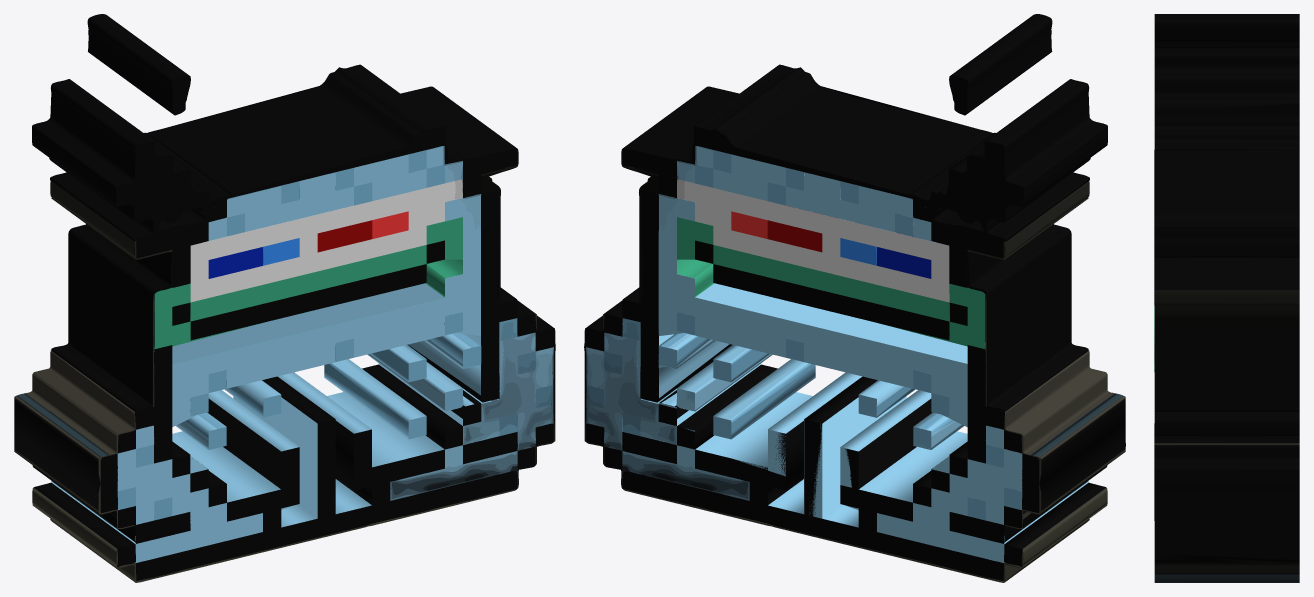
The model's file is Toadz_1662.glb.
The picture shows the model from 3 angles, left to right: view 1: azimuth 30°, elevation 25°; view 2: azimuth 150°, elevation 25°; view 3: azimuth 270°, elevation 25°; orthographic projection. The views are drawn at different scales.
Parts seen in each view (by area): view 1: Curve; view 2: Curve; view 3: Curve.
Part boxes in pixels (box(x1,y1,x2,y2)): Curve: box(14, 14, 555, 582); Curve: box(584, 14, 1125, 582); Curve: box(1154, 14, 1299, 582).
Bounding box in the file's own units: 3.13 × 3.25 × 1.
